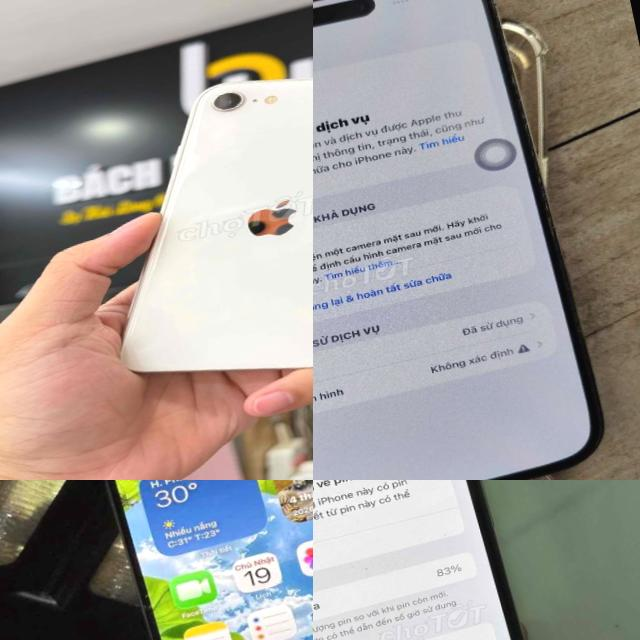gen_14: (313, 0, 616, 480)
gen_15: (82, 480, 313, 640)
gen_7_8: (53, 38, 313, 416)
gen_x_xs: (313, 480, 583, 640)
scratch: (234, 198, 301, 245)
